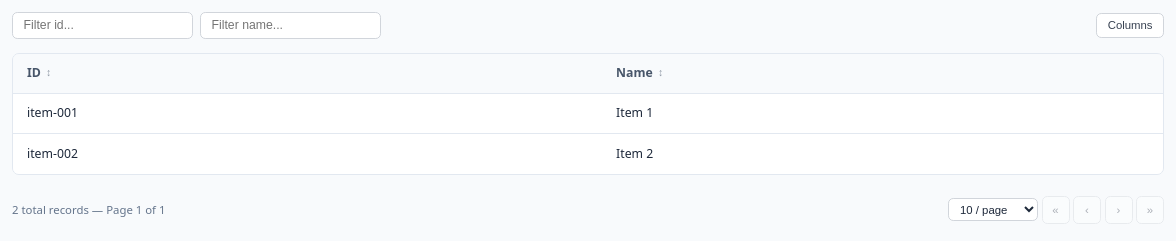
Test: DataTable › Column visibility toggling › prevents hiding the last visible column
The width and height of the screenshot is (1176, 241).
Expected: the text "Item 1" is shown, [602,93,1163,134]
Note: Open visibility dropdown
Click the button "Columns": (1130, 25) [1096,13,1164,38]
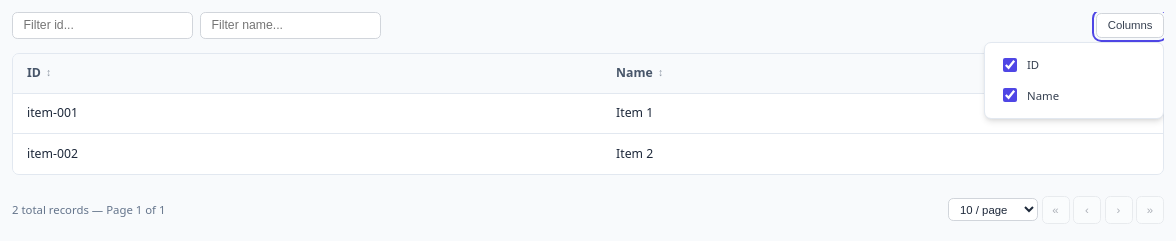
Click the checkbox labelled "ID": (1010, 65) [1003,58,1017,72]
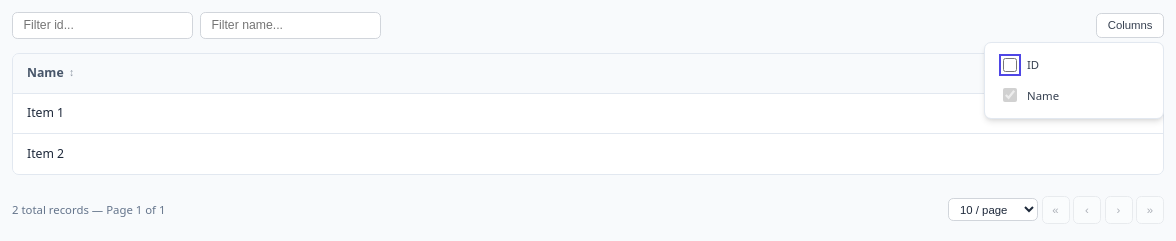
Now the checkbox labelled "Name" is disabled, box [1003,88,1017,102]
